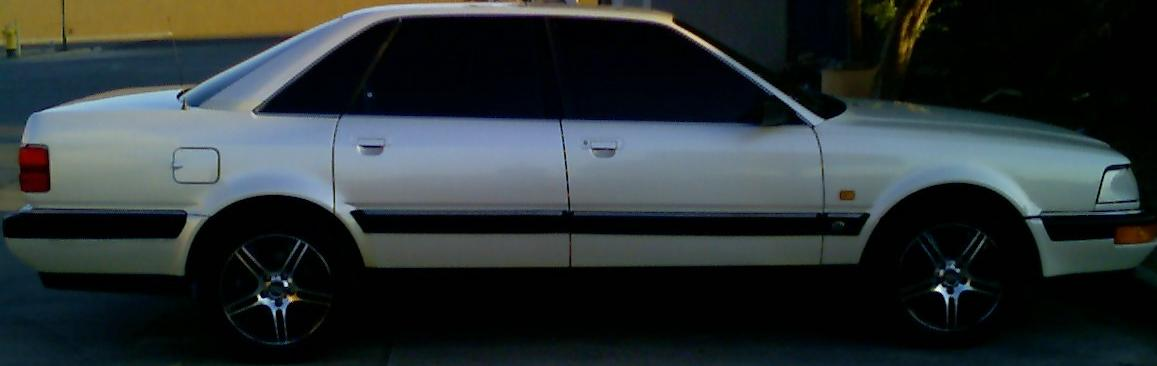front_view: (1021, 128, 1155, 281)
headlight: (1087, 155, 1150, 214)
side_glass: (298, 19, 793, 132)
